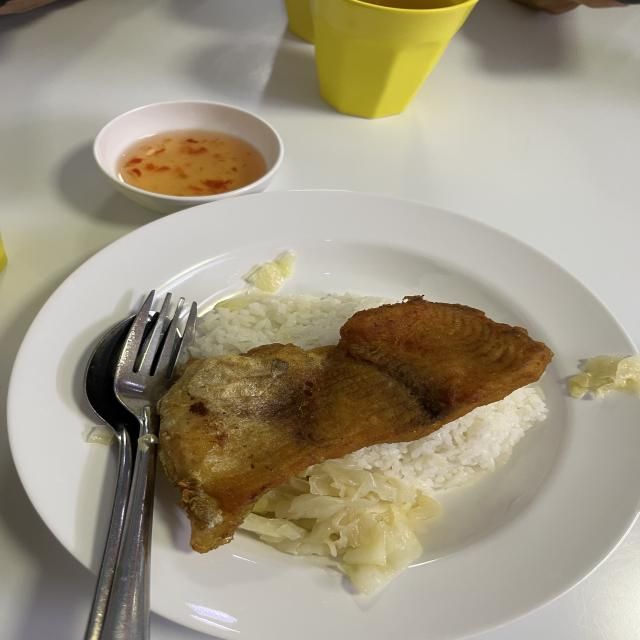ca chien: (157, 296, 553, 551)
nuoc mam: (117, 131, 267, 196)
rau: (246, 461, 441, 595)
